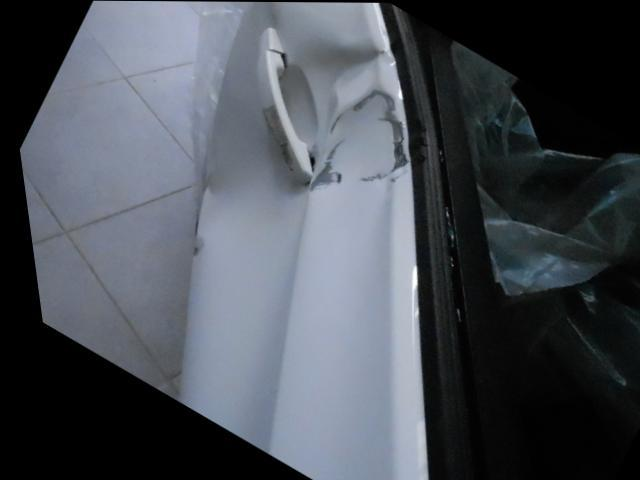dent: (186, 1, 400, 250)
glass shatter: (451, 40, 640, 480)
rub: (347, 83, 401, 182), (258, 104, 289, 173), (306, 141, 342, 191)
scratch: (325, 110, 343, 135), (331, 170, 338, 183)
